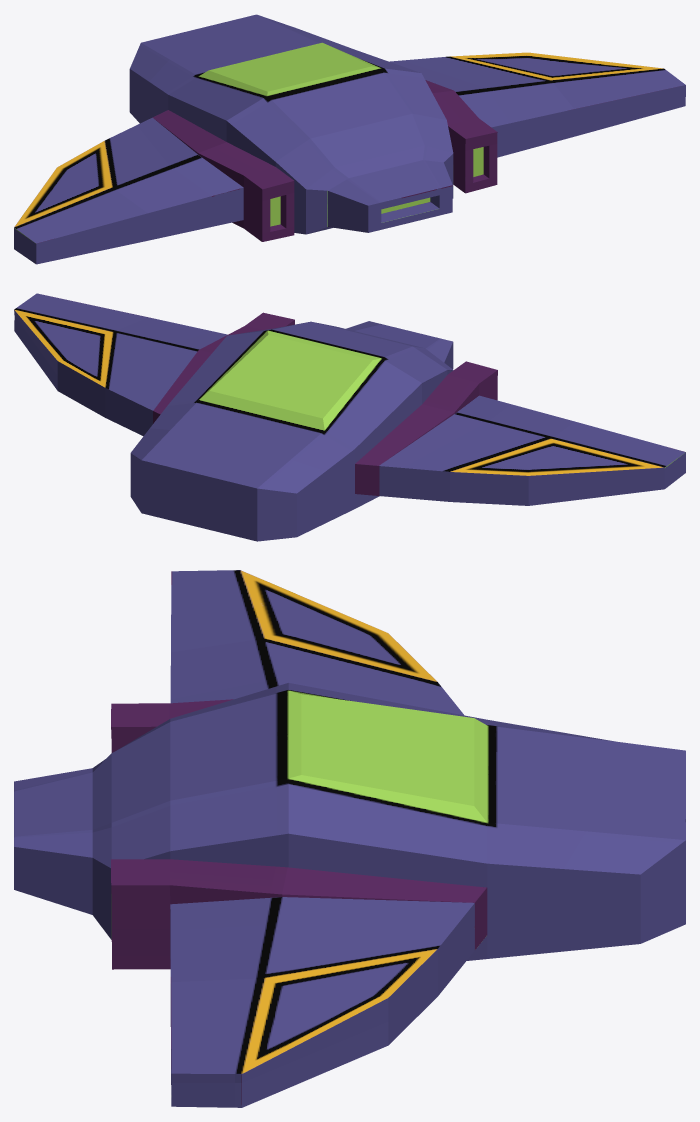
The model's file is destroyer.gltf.
3 views of the same model, one above another, from view 1: azimuth 30°, elevation 25°; view 2: azimuth 150°, elevation 25°; view 3: azimuth 270°, elevation 25° (orthographic). The views are drawn at different scales.
Parts seen in each view (by area): view 1: Cube.001; view 2: Cube.001; view 3: Cube.001.
Boxes of the visible parts, x1,y1,x2,y2 form: Cube.001: [14, 14, 685, 264]; Cube.001: [14, 293, 685, 541]; Cube.001: [14, 570, 685, 1107].
Size of the model in its own units: 0.801 by 0.125 by 0.4517.
3 materials, 1 textured.
